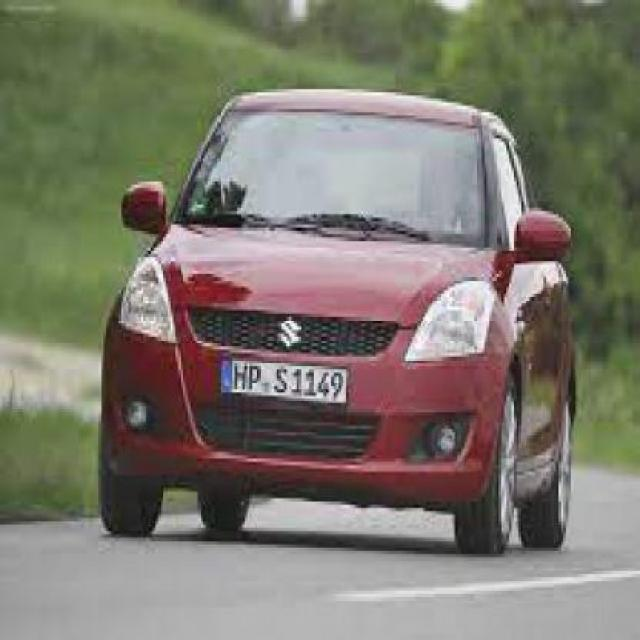vehicle: (100, 66, 586, 579)
